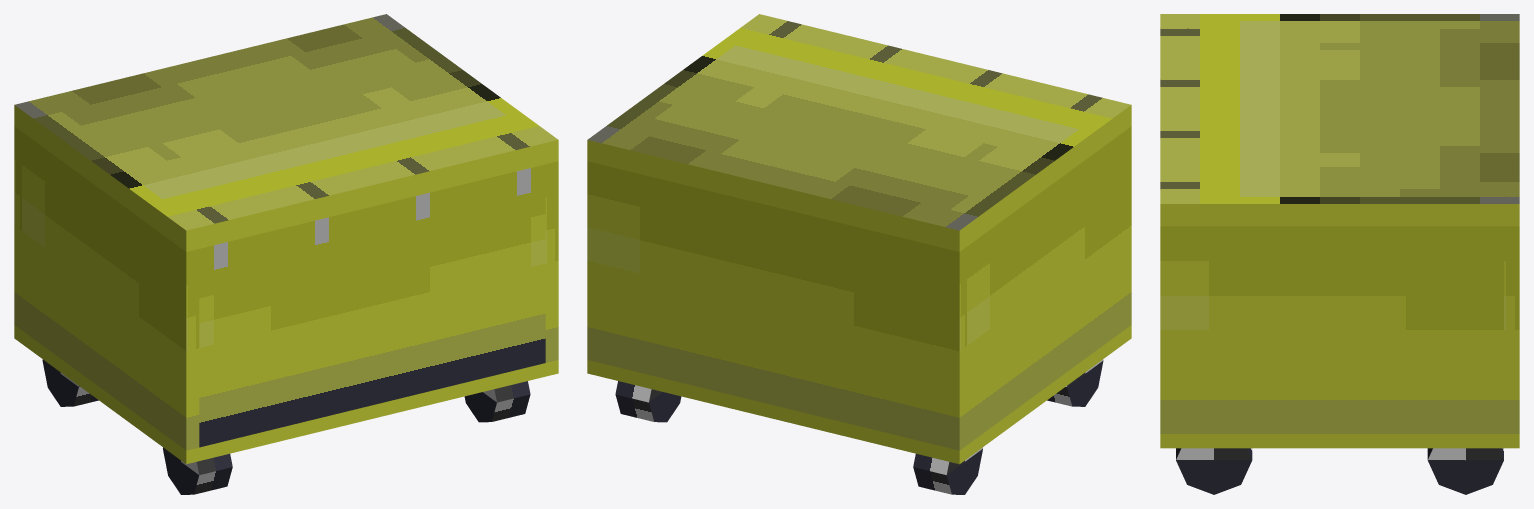
Rendered from laundry_cart.glb.
3 renders of one model, left to right at view 1: azimuth 30°, elevation 25°; view 2: azimuth 150°, elevation 25°; view 3: azimuth 270°, elevation 25°, orthographic. The views are drawn at different scales.
Visible parts, largest first — view 1: laundry_cart_Body, laundry_cart_Lid; view 2: laundry_cart_Body, laundry_cart_Lid; view 3: laundry_cart_Body, laundry_cart_Lid.
Part boxes in pixels (x1=…): laundry_cart_Body: x1=14, y1=126, x2=558, y2=494; laundry_cart_Lid: x1=14, y1=14, x2=558, y2=251; laundry_cart_Body: x1=587, y1=126, x2=1131, y2=494; laundry_cart_Lid: x1=587, y1=14, x2=1131, y2=251; laundry_cart_Body: x1=1160, y1=226, x2=1519, y2=494; laundry_cart_Lid: x1=1160, y1=14, x2=1519, y2=226.
Size of the model in its own units: 1 by 0.74 by 0.8.
Materials: 2 (2 with a texture image).
